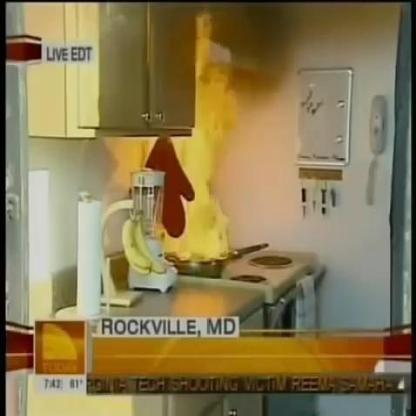fire: (168, 126, 230, 261)
